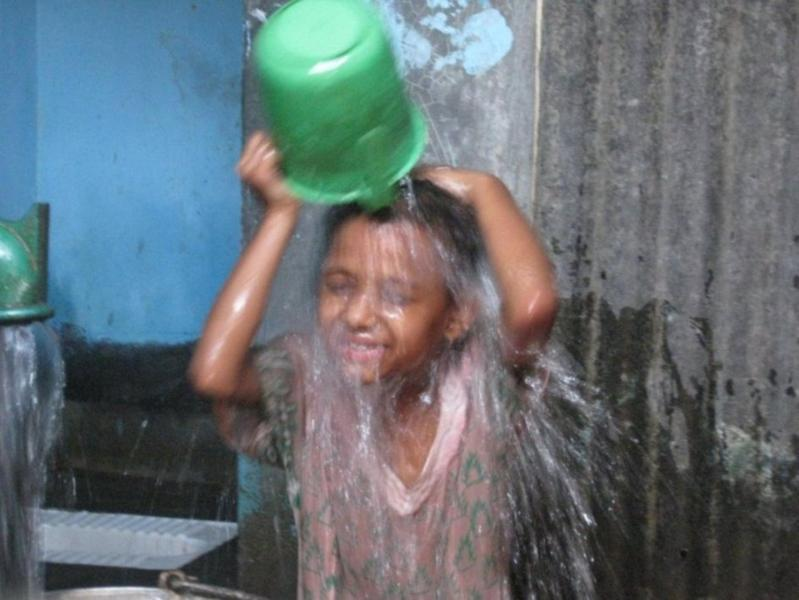person: (193, 129, 559, 599)
